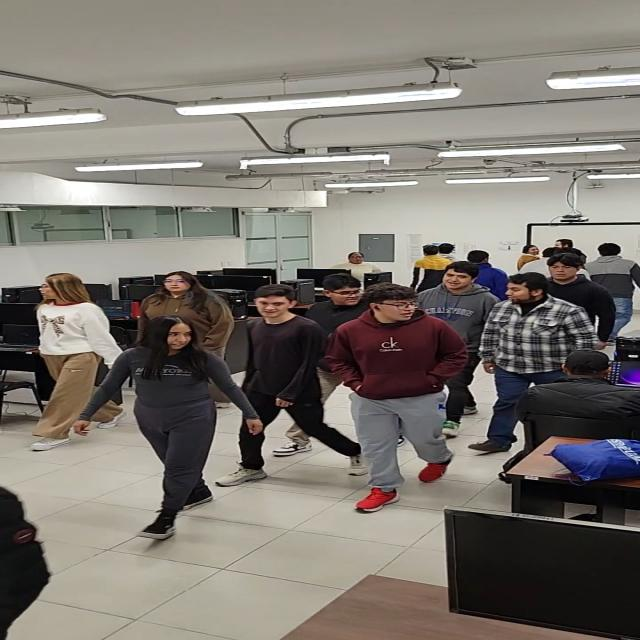Persona: (75, 315, 268, 540), (324, 282, 472, 513), (212, 283, 375, 489), (467, 272, 600, 453), (31, 273, 130, 453), (137, 271, 235, 405), (537, 253, 617, 348), (405, 258, 497, 338), (582, 242, 640, 342), (307, 270, 382, 336), (456, 249, 512, 298), (408, 243, 455, 290), (516, 241, 551, 277), (555, 238, 581, 249)
